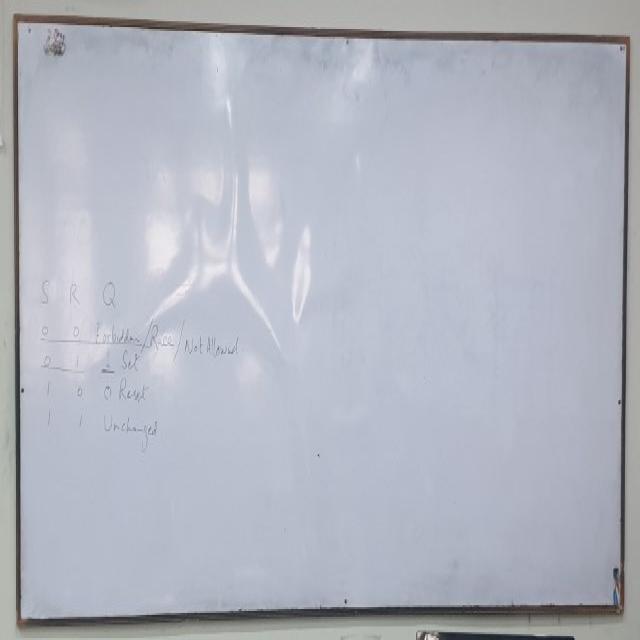White-board: (16, 16, 629, 619)
